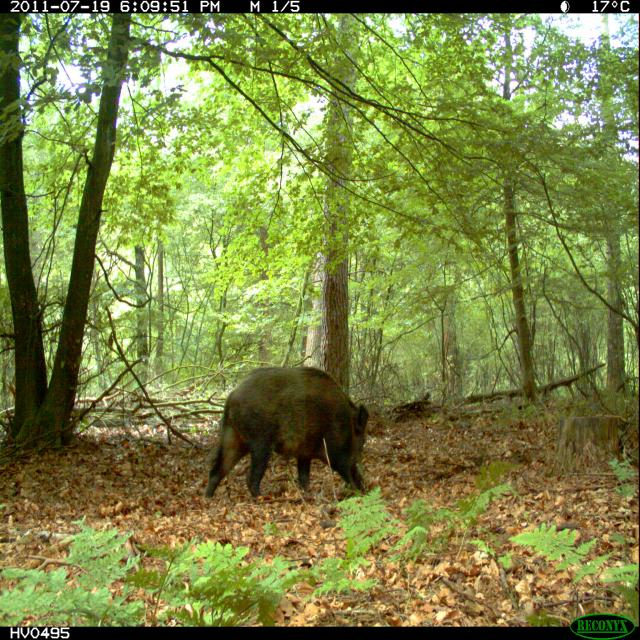boar: (194, 328, 395, 537)
